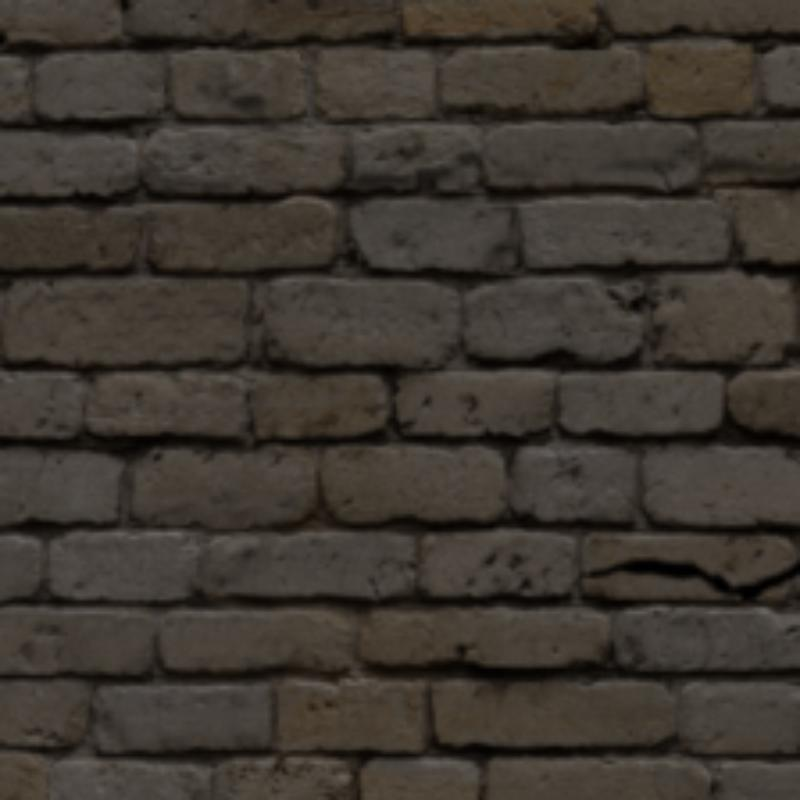pothole: (579, 561, 796, 596)
